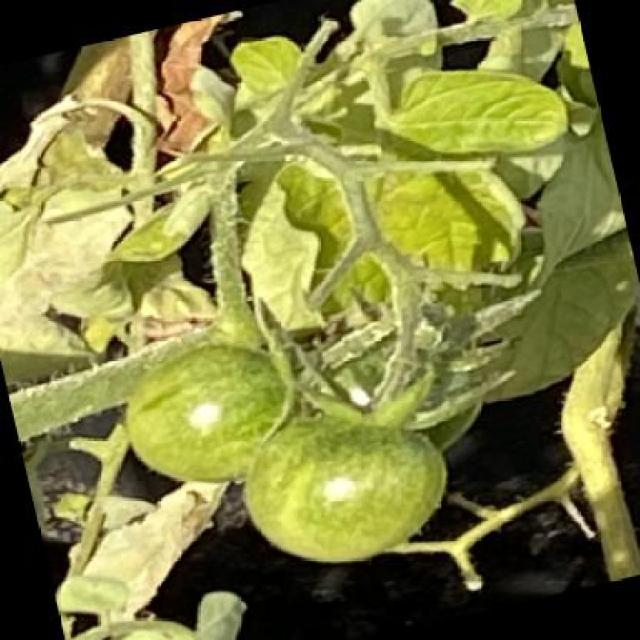unripe tomato: (228, 386, 466, 582), (106, 323, 325, 505)
